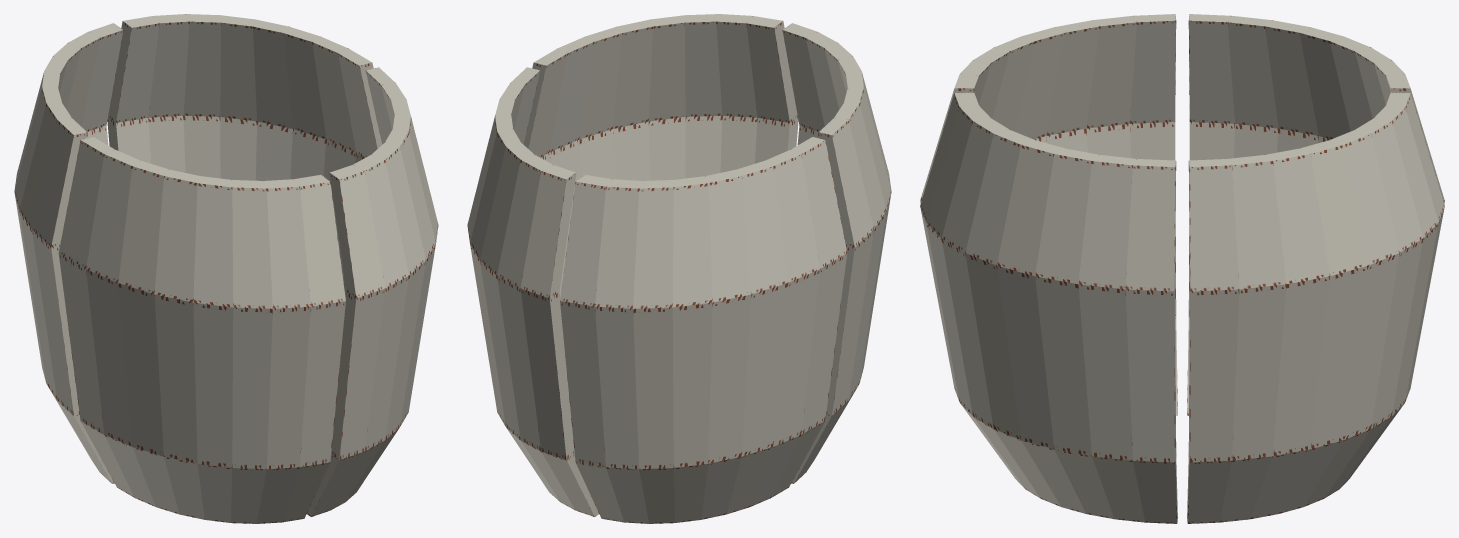
File: PressureRunner_Elite_TriplePressure_FragmentAssets.fbx
3 views of the same model, side by side, from view 1: azimuth 30°, elevation 25°; view 2: azimuth 150°, elevation 25°; view 3: azimuth 270°, elevation 25° (orthographic). The views are drawn at different scales.
Parts seen in each view (by area): view 1: SM_PressureRunner_Elite_TriplePressure_Fragment_2, SM_PressureRunner_Elite_TriplePressure_Fragment_0, SM_PressureRunner_Elite_TriplePressure_Fragment_3, SM_PressureRunner_Elite_TriplePressure_Fragment_1; view 2: SM_PressureRunner_Elite_TriplePressure_Fragment_1, SM_PressureRunner_Elite_TriplePressure_Fragment_3, SM_PressureRunner_Elite_TriplePressure_Fragment_0, SM_PressureRunner_Elite_TriplePressure_Fragment_2; view 3: SM_PressureRunner_Elite_TriplePressure_Fragment_0, SM_PressureRunner_Elite_TriplePressure_Fragment_3, SM_PressureRunner_Elite_TriplePressure_Fragment_1, SM_PressureRunner_Elite_TriplePressure_Fragment_2.
Part boxes in pixels (x1,y1,x2,y2): SM_PressureRunner_Elite_TriplePressure_Fragment_2: [58, 136, 345, 523]; SM_PressureRunner_Elite_TriplePressure_Fragment_0: [107, 14, 382, 296]; SM_PressureRunner_Elite_TriplePressure_Fragment_3: [307, 67, 438, 516]; SM_PressureRunner_Elite_TriplePressure_Fragment_1: [14, 23, 123, 483]; SM_PressureRunner_Elite_TriplePressure_Fragment_1: [560, 136, 847, 523]; SM_PressureRunner_Elite_TriplePressure_Fragment_3: [523, 14, 798, 296]; SM_PressureRunner_Elite_TriplePressure_Fragment_0: [467, 67, 598, 516]; SM_PressureRunner_Elite_TriplePressure_Fragment_2: [782, 23, 891, 483]; SM_PressureRunner_Elite_TriplePressure_Fragment_0: [1187, 92, 1444, 523]; SM_PressureRunner_Elite_TriplePressure_Fragment_3: [920, 92, 1177, 523]; SM_PressureRunner_Elite_TriplePressure_Fragment_1: [1187, 14, 1444, 415]; SM_PressureRunner_Elite_TriplePressure_Fragment_2: [920, 14, 1177, 415].
Bounding box in the file's own units: 87.56 × 87.09 × 110.
